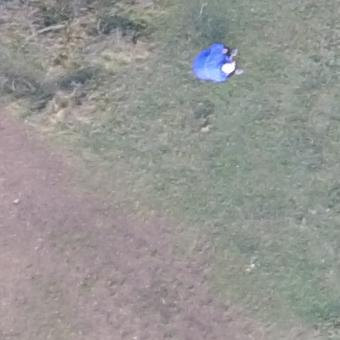human: (190, 41, 245, 84)
